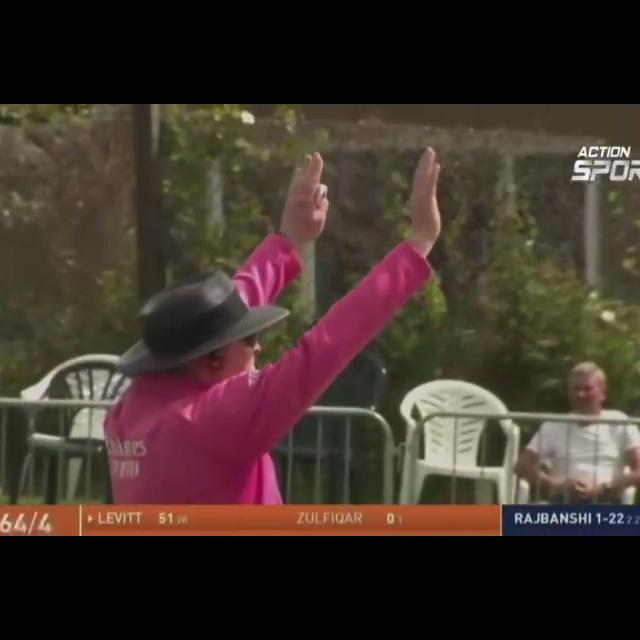umpire: (96, 126, 460, 504)
